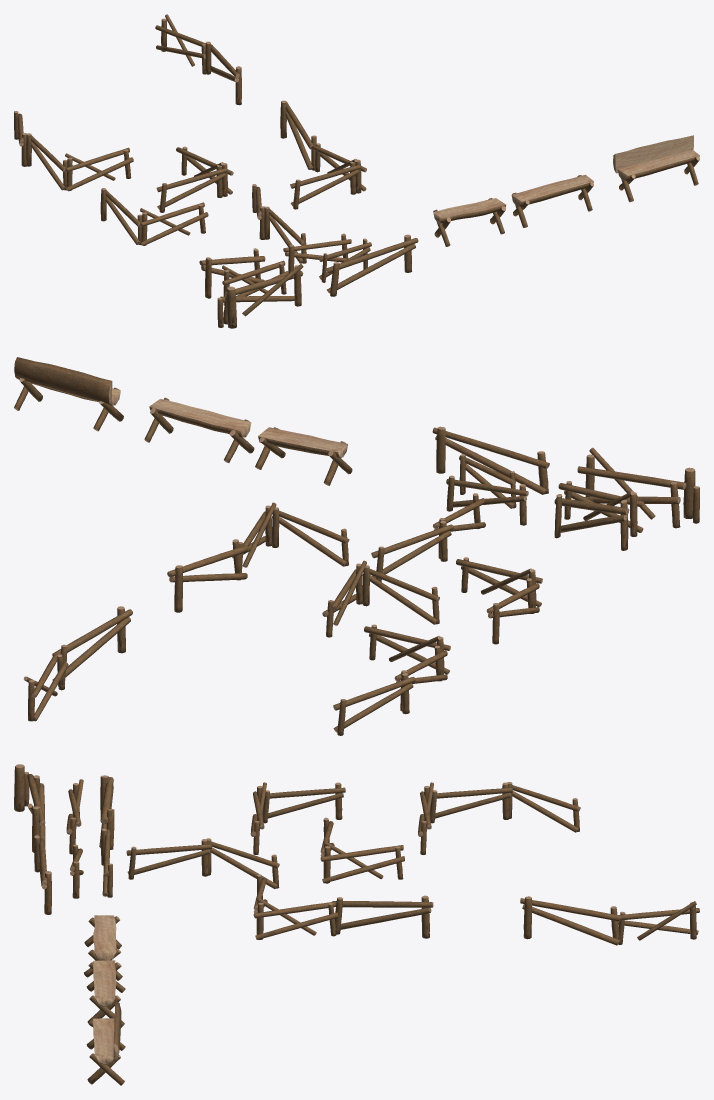
The model's file is Fences_A1.fbx.
3 renders of one model, top to bottom at view 1: azimuth 30°, elevation 25°; view 2: azimuth 150°, elevation 25°; view 3: azimuth 270°, elevation 25°, orthographic. The views are drawn at different scales.
Parts seen in each view (by area): view 1: Bench_A3, Fence_A12, Fence_A10, Fence_A12.001, Fence_A9, Fence_A11, Fence_A10.001, Fence_A8, Fence_A4, Bench_A1, Bench_A2, Fence_A9.001 (+12 smaller); view 2: Fence_A12, Fence_A10, Fence_A12.001, Fence_A8, Bench_A3.001, Bench_A2, Fence_A10.001, Bench_A3, Bench_A1, Fence_A11, Fence_A9, Fence_A7 (+17 smaller); view 3: Fence_A12, Fence_A8, Fence_A10, Fence_A12.001, Fence_A8.001, Fence_A7, Fence_A10.001, Fence_A9, Bench_A3, Bench_A1, Bench_A2, Fence_A11 (+9 smaller).
Part boxes in pixels (x1,y1,x2,y2): Bench_A3: (613, 135, 699, 202); Fence_A12: (280, 100, 366, 209); Fence_A10: (14, 111, 133, 191); Fence_A12.001: (280, 102, 365, 205); Fence_A9: (100, 188, 208, 245); Fence_A11: (157, 146, 233, 212); Fence_A10.001: (14, 116, 130, 190); Fence_A8: (155, 14, 241, 104); Fence_A4: (326, 234, 418, 296); Bench_A1: (433, 198, 505, 246); Bench_A2: (511, 174, 593, 227); Fence_A9.001: (100, 194, 205, 245); Fence_A12: (167, 502, 349, 612); Fence_A10: (333, 624, 450, 735); Fence_A12.001: (169, 503, 348, 607); Fence_A8: (24, 606, 132, 721); Bench_A3.001: (14, 357, 122, 429); Bench_A2: (144, 398, 254, 462); Fence_A10.001: (333, 626, 450, 731); Bench_A3: (14, 358, 123, 431); Bench_A1: (255, 427, 352, 485); Fence_A11: (323, 560, 439, 637); Fence_A9: (456, 557, 542, 644); Fence_A7: (371, 493, 485, 581); Fence_A12: (253, 874, 433, 939); Fence_A8: (520, 896, 699, 945); Fence_A10: (418, 782, 580, 854); Fence_A12.001: (254, 880, 432, 938); Fence_A8.001: (520, 898, 699, 942); Fence_A7: (126, 838, 279, 888); Fence_A10.001: (418, 782, 579, 850); Fence_A9: (250, 782, 345, 854); Bench_A3: (86, 1000, 125, 1085); Bench_A1: (84, 915, 122, 980); Bench_A2: (86, 960, 125, 1027); Fence_A11: (320, 817, 404, 883).
Bounding box in the file's own units: 1991 × 169 × 2052.
